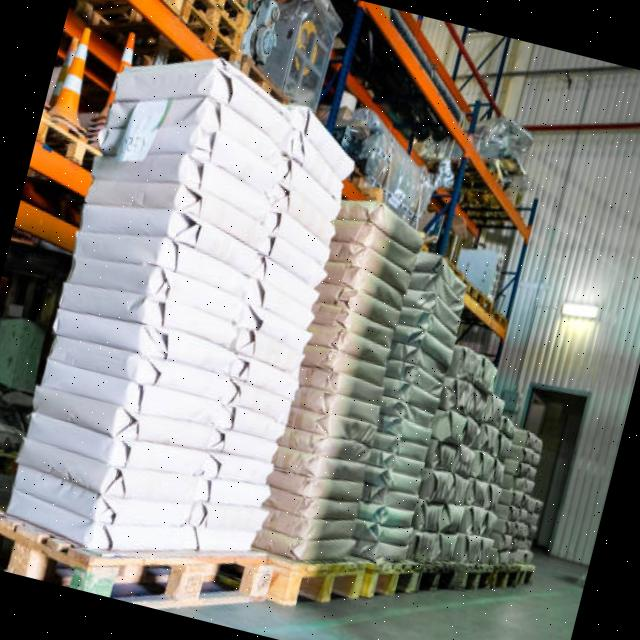Wooden-Pallets: (0, 509, 275, 603), (270, 558, 369, 626), (360, 561, 420, 619)
